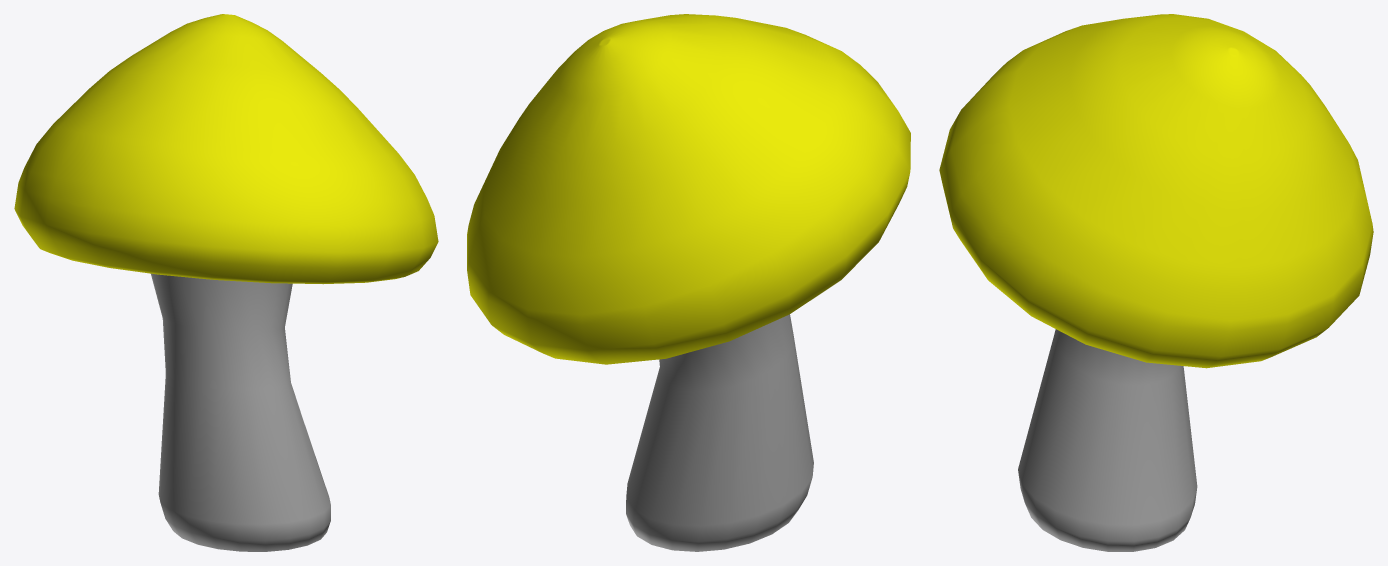
Rendered from Seta.fbx.
3 renders of one model, left to right at view 1: azimuth 30°, elevation 25°; view 2: azimuth 150°, elevation 25°; view 3: azimuth 270°, elevation 25°, orthographic. The views are drawn at different scales.
Parts seen in each view (by area): view 1: Seta; view 2: Seta; view 3: Seta.
Boxes of the visible parts, <box> form: Seta: <box>14,14,438,551</box>; Seta: <box>467,14,910,551</box>; Seta: <box>939,14,1373,551</box>.
Bounding box in the file's own units: 4.79 × 6.04 × 4.81.
